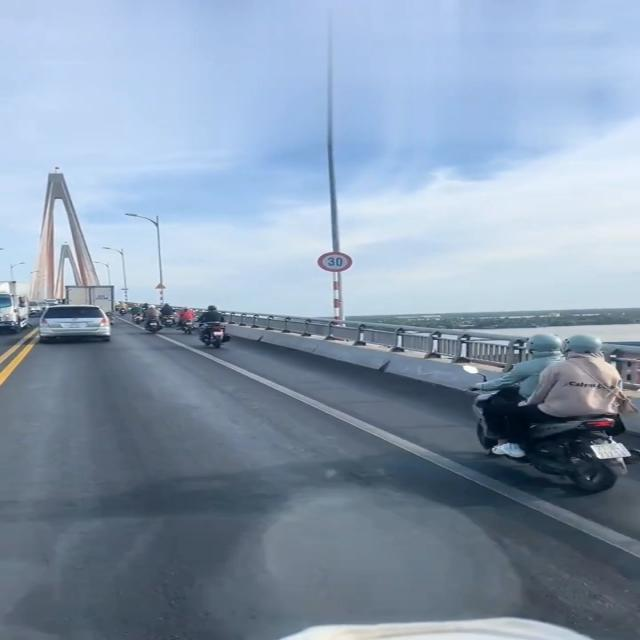127-toc-do-toi-da-30: (318, 252, 352, 272)
